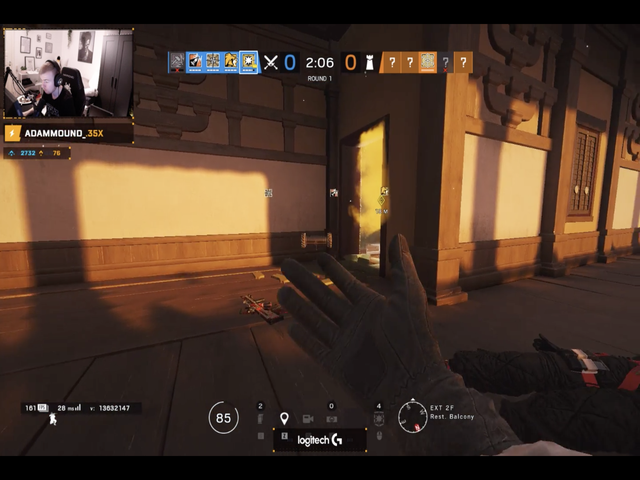0_blue: (279, 49, 301, 76)
